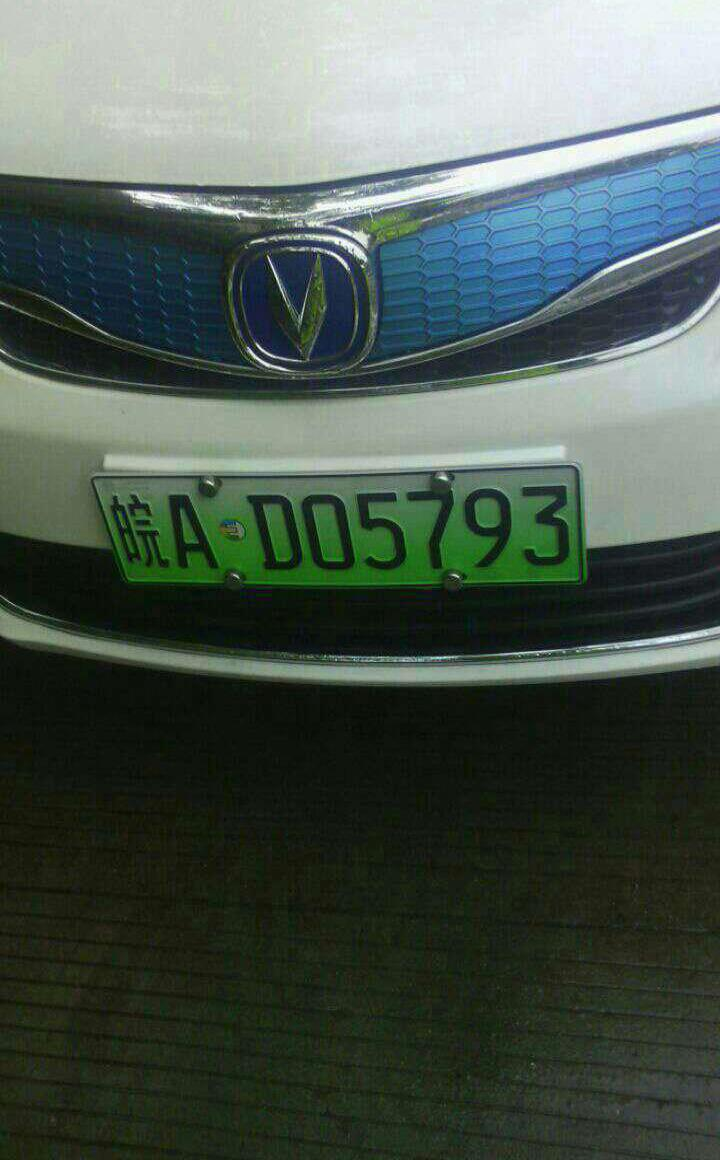car: (86, 469, 595, 592)
